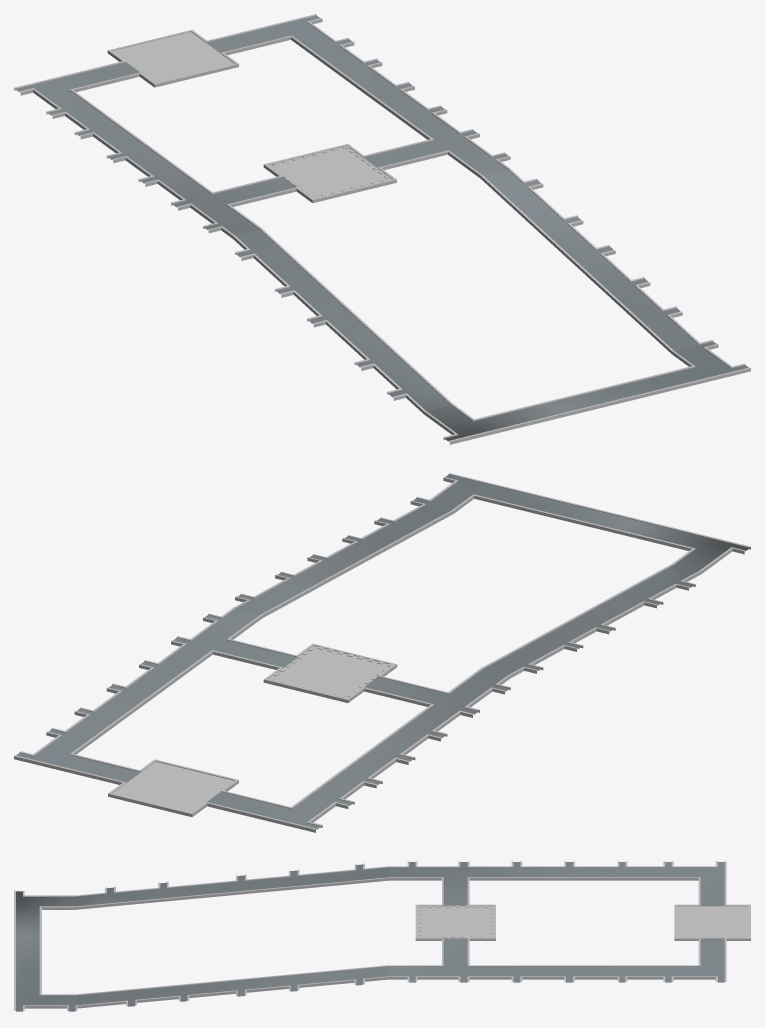
The model's file is Jalan.fbx.
The picture shows the model from 3 angles, top to bottom: view 1: azimuth 30°, elevation 25°; view 2: azimuth 150°, elevation 25°; view 3: azimuth 270°, elevation 25°; orthographic projection. The views are drawn at different scales.
Parts seen in each view (by area): view 1: Jalan; view 2: Jalan; view 3: Jalan.
Part boxes in pixels (bbox=[...]): Jalan: bbox=[14, 14, 750, 444]; Jalan: bbox=[14, 473, 750, 832]; Jalan: bbox=[14, 861, 750, 1011].
Size of the model in its own units: 127 by 15.61 by 328.
